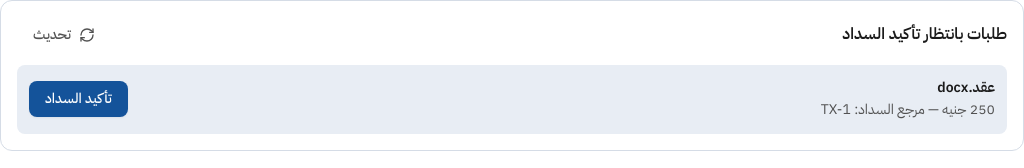
Test: PendingPaymentsPanel › يؤكد السداد فيختفى الطلب من القائمة
Check: the text "250 جنيه — مرجع السداد: TX-1" is shown, box [821,99,995,122]
Click the button with aria-label "تأكيد سداد عقد.docx" at (78, 99), box [29,81,128,117]
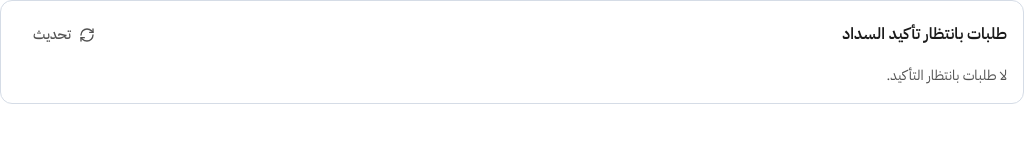
Check: the text "لا طلبات بانتظار التأكيد." is shown, box [886,65,1007,86]
